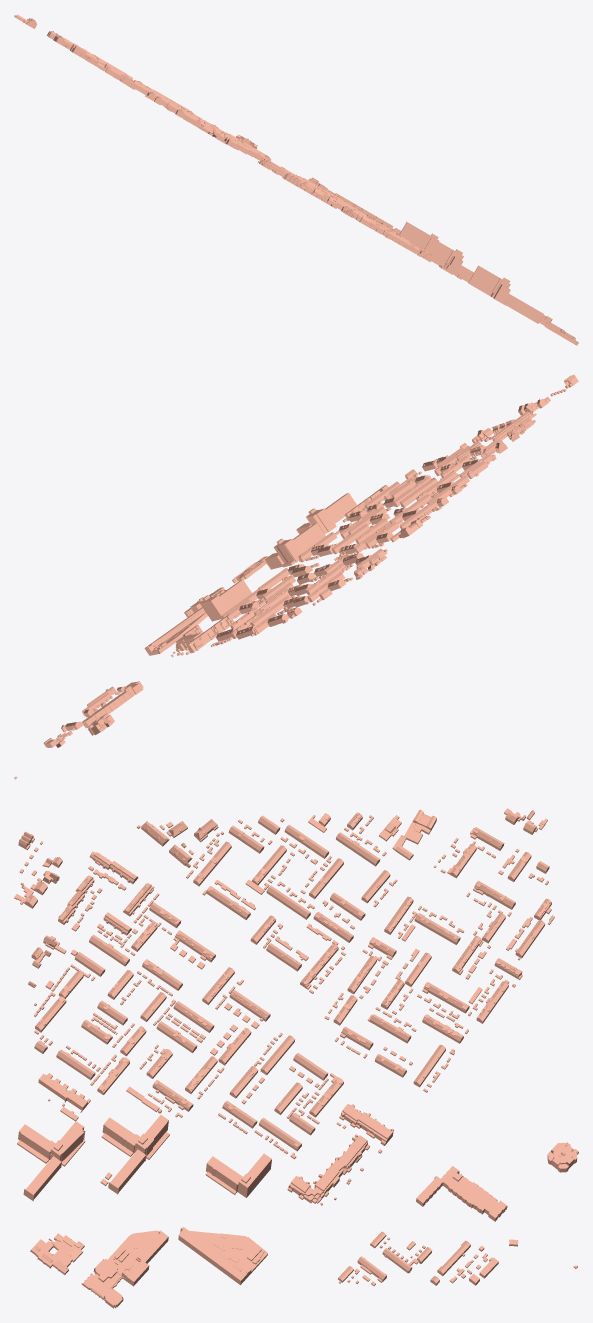
3 views of the same model, one above another, from view 1: azimuth 30°, elevation 25°; view 2: azimuth 150°, elevation 25°; view 3: azimuth 270°, elevation 25° (orthographic). The views are drawn at different scales.
Size of the model in its own units: 532 by 386 by 642.
